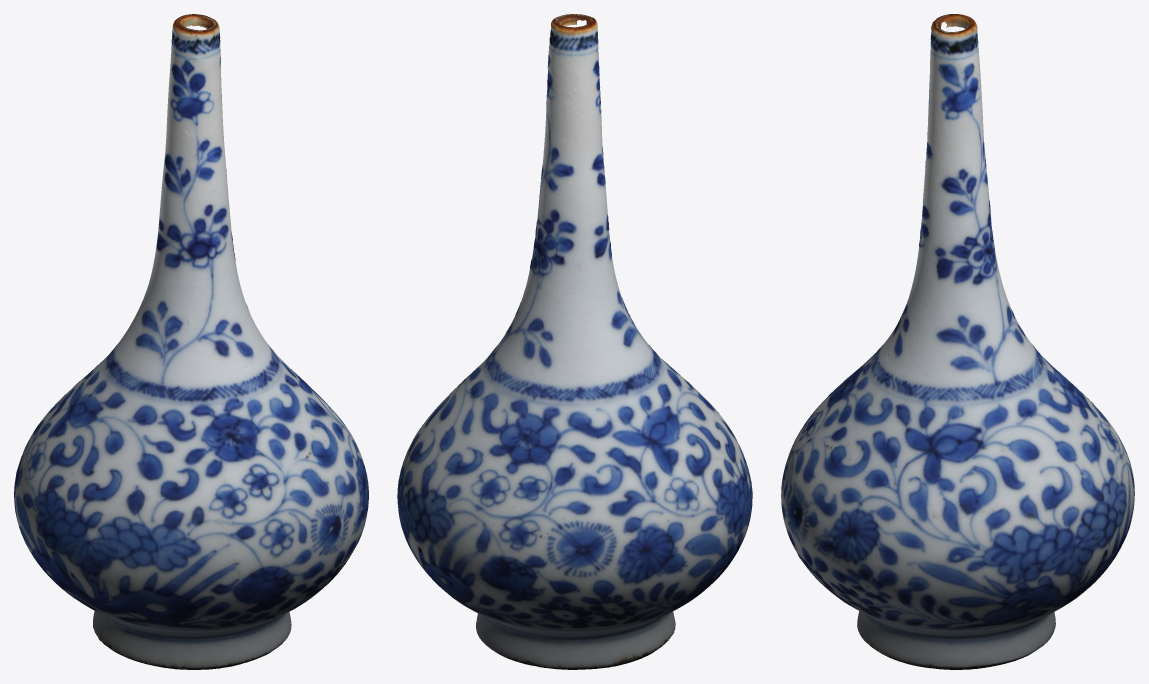
Rendered from bottle-shaped-vase-f1982-150k-2048-medium-100k-2048_std_draco.glb.
The picture shows the model from 3 angles, left to right: view 1: azimuth 30°, elevation 25°; view 2: azimuth 150°, elevation 25°; view 3: azimuth 270°, elevation 25°; orthographic projection.
Bounding box in the file's own units: 0.0996 × 0.1889 × 0.0993.
1 material, 1 textured.
